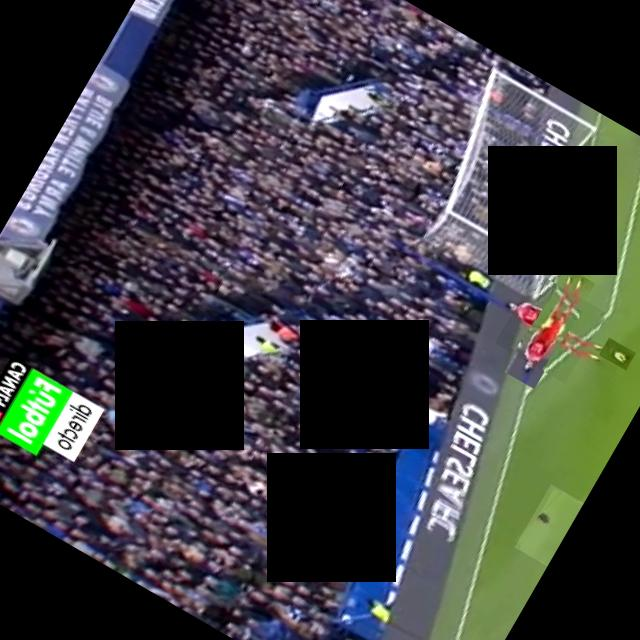ball: (599, 337, 636, 370)
goalkeeper: (495, 272, 606, 384)
soccer-player: (515, 484, 584, 566)
